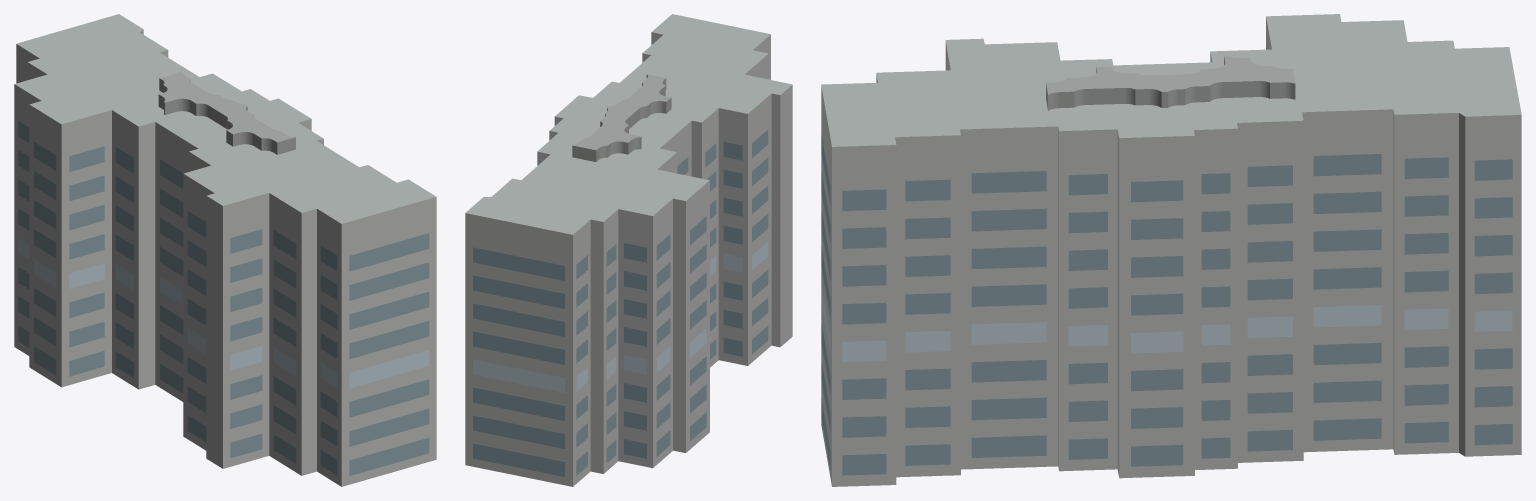
The model's file is fallback-godeok-arteon-336.glb.
3 renders of one model, left to right at view 1: azimuth 30°, elevation 25°; view 2: azimuth 150°, elevation 25°; view 3: azimuth 270°, elevation 25°, orthographic. The views are drawn at different scales.
Parts seen in each view (by area): view 1: fallback-godeok-arteon-336; view 2: fallback-godeok-arteon-336; view 3: fallback-godeok-arteon-336.
Boxes of the visible parts, x1,y1,x2,y2 form: fallback-godeok-arteon-336: (14, 14, 436, 486); fallback-godeok-arteon-336: (465, 14, 792, 486); fallback-godeok-arteon-336: (821, 14, 1521, 486).
Size of the model in its own units: 22.42 by 28 by 49.93.
